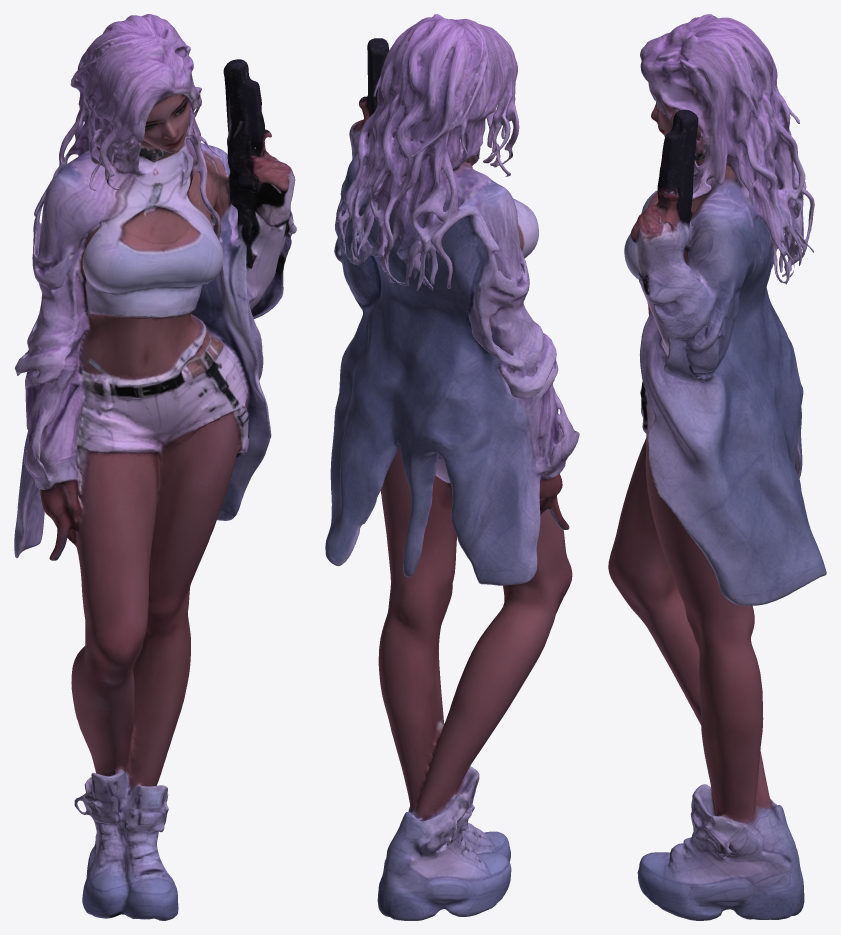
Rendered from neon-valkyrie.glb.
The picture shows the model from 3 angles, left to right: view 1: azimuth 30°, elevation 25°; view 2: azimuth 150°, elevation 25°; view 3: azimuth 270°, elevation 25°; orthographic projection.
Size of the model in its own units: 0.5487 by 1.9 by 0.4217.
1 material, 1 textured.
